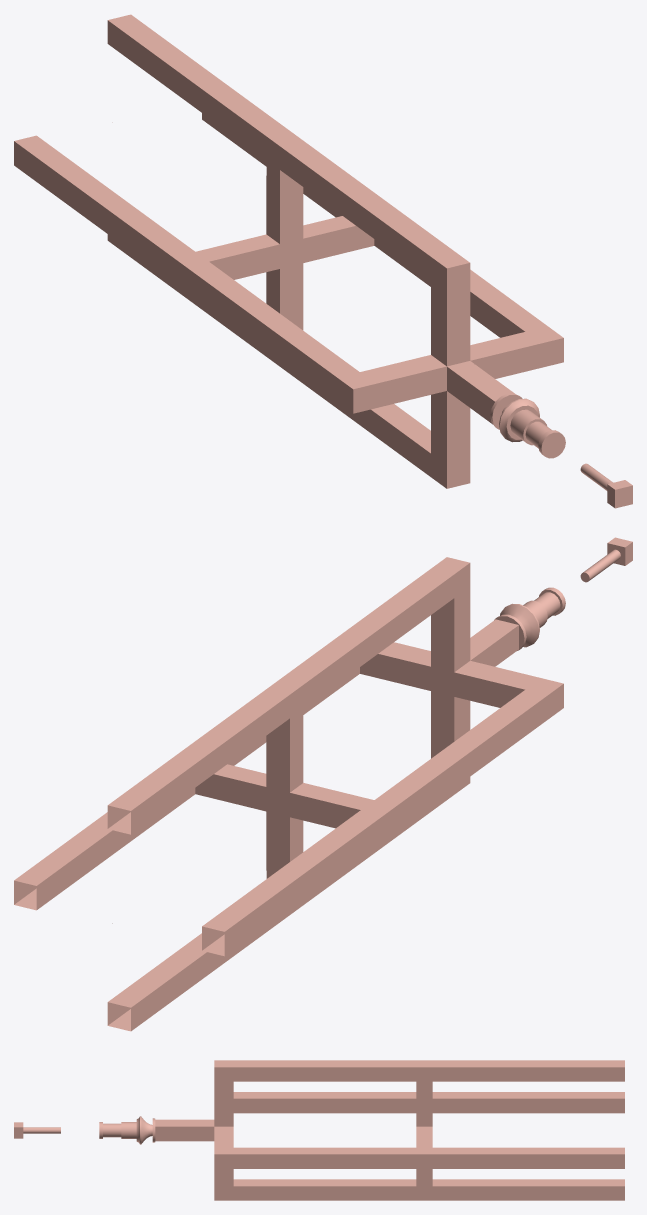
File: MeshFloorLamp_12_0_GeomSubset_0.obj
3 renders of one model, top to bottom at view 1: azimuth 30°, elevation 25°; view 2: azimuth 150°, elevation 25°; view 3: azimuth 270°, elevation 25°, orthographic. The views are drawn at different scales.
Visible parts, largest first — view 1: MeshFloorLamp_12_0_GeomSubset_0; view 2: MeshFloorLamp_12_0_GeomSubset_0; view 3: MeshFloorLamp_12_0_GeomSubset_0.
Boxes of the visible parts, left/top/right/bottom form: MeshFloorLamp_12_0_GeomSubset_0: left=14, top=14, right=632, bottom=508; MeshFloorLamp_12_0_GeomSubset_0: left=14, top=537, right=632, bottom=1031; MeshFloorLamp_12_0_GeomSubset_0: left=14, top=1060, right=624, bottom=1200.
Bounding box in the file's own units: 0.4278 × 0.4278 × 1.8.
